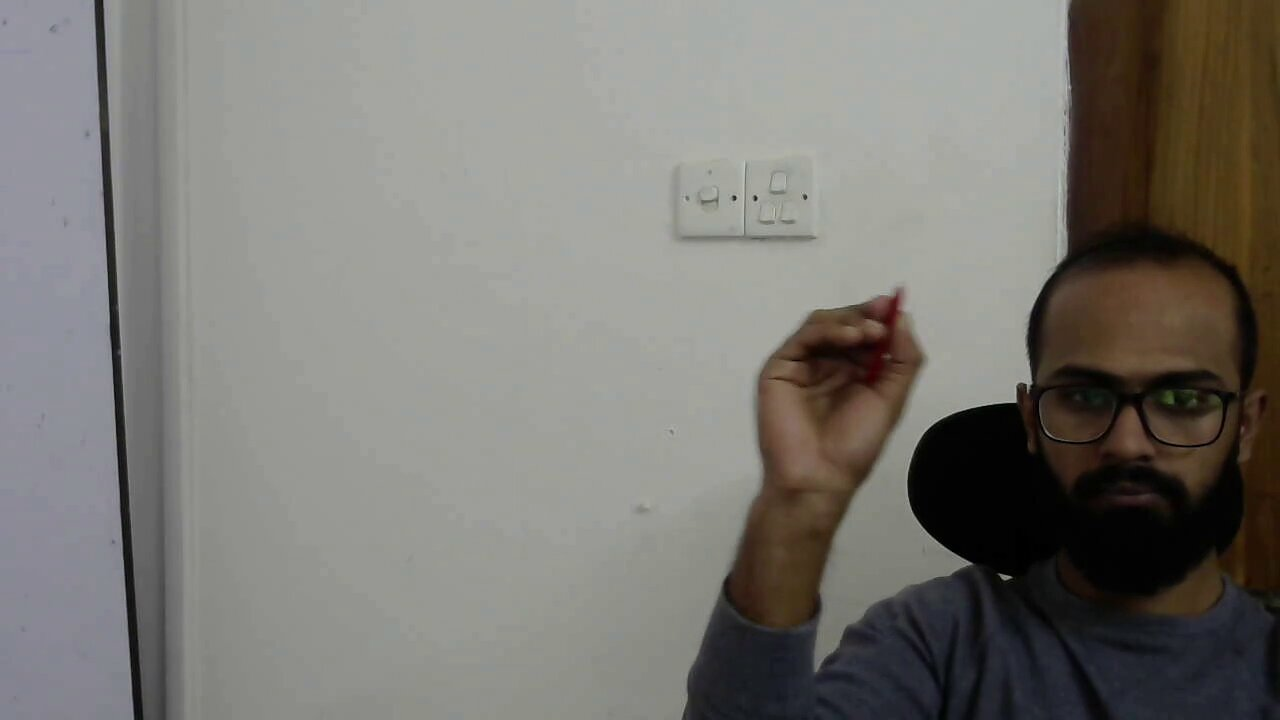pointer: (778, 283, 925, 424)
